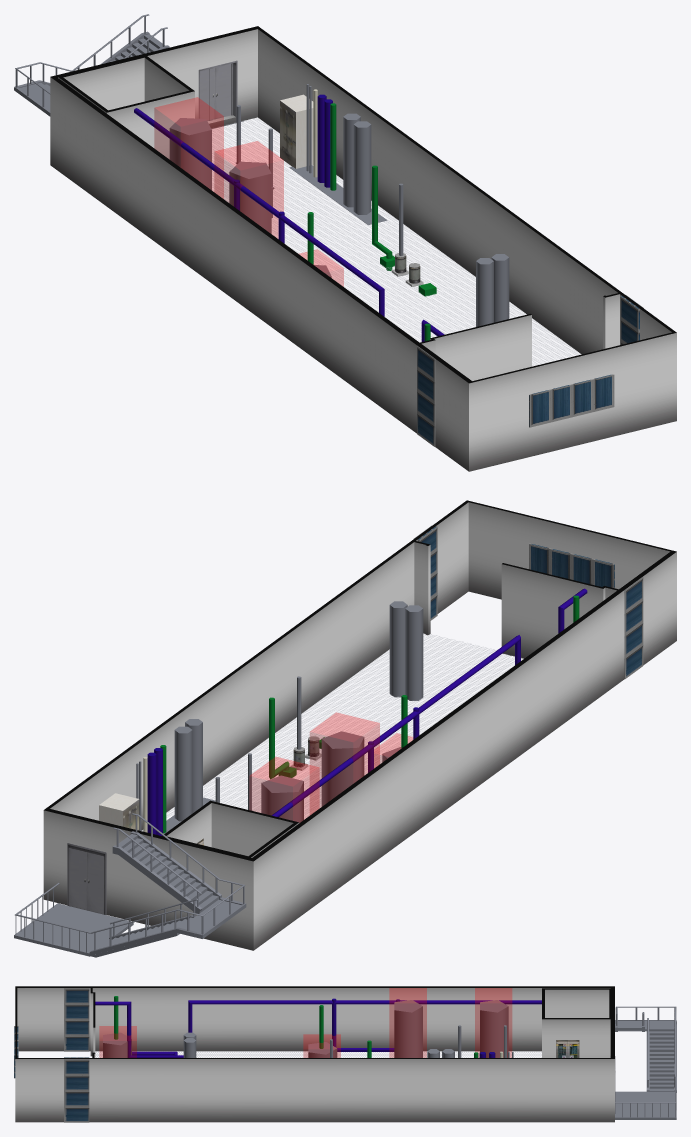
File: soulbrain_T6-3-4F-1.glb
The picture shows the model from 3 angles, top to bottom: view 1: azimuth 30°, elevation 25°; view 2: azimuth 150°, elevation 25°; view 3: azimuth 270°, elevation 25°; orthographic projection. The views are drawn at different scales.
Parts seen in each view (by area): view 1: T6-3-4F-1, T6-3-4F-2 A, Line1076, equipment-T6-3-4F-1-004, equipment-T6-3-4F-1-003, Line1079, Line1083, Line673, Cylinder222, Rectangle1241; view 2: T6-3-4F-1, Line673, Line1076, T6-3-4F-2 A, equipment-T6-3-4F-1-003, Line1079, equipment-T6-3-4F-1-004, Line1083, Cylinder222; view 3: T6-3-4F-1, Line673, T6-3-4F-2 A, Line1079, equipment-T6-3-4F-1-003, equipment-T6-3-4F-1-004, equipment-T6-3-4F-1-001, equipment-T6-3-4F-1-002, Line1076, Cylinder221.
Part boxes in pixels (left/top/right/bottom): T6-3-4F-1: left=50, top=26, right=676, bottom=471; T6-3-4F-2 A: left=169, top=94, right=331, bottom=277; Line1076: left=343, top=113, right=509, bottom=326; equipment-T6-3-4F-1-004: left=154, top=97, right=223, bottom=198; equipment-T6-3-4F-1-003: left=214, top=141, right=283, bottom=238; Line1079: left=134, top=108, right=444, bottom=341; Line1083: left=306, top=84, right=336, bottom=190; Line673: left=14, top=14, right=243, bottom=128; Cylinder222: left=391, top=183, right=423, bottom=286; Rectangle1241: left=289, top=165, right=387, bottom=225; T6-3-4F-1: left=43, top=500, right=676, bottom=950; Line673: left=14, top=813, right=246, bottom=957; Line1076: left=174, top=601, right=423, bottom=821; T6-3-4F-2 A: left=99, top=731, right=401, bottom=826; equipment-T6-3-4F-1-003: left=310, top=712, right=379, bottom=814; Line1079: left=269, top=588, right=587, bottom=817; equipment-T6-3-4F-1-004: left=249, top=757, right=319, bottom=822; Line1083: left=136, top=745, right=166, bottom=835; Cylinder222: left=290, top=676, right=321, bottom=770; T6-3-4F-1: left=14, top=986, right=615, bottom=1122; Line673: left=615, top=1006, right=676, bottom=1119; T6-3-4F-2 A: left=103, top=1000, right=508, bottom=1057; Line1079: left=95, top=996, right=541, bottom=1057; equipment-T6-3-4F-1-003: left=389, top=988, right=426, bottom=1057; equipment-T6-3-4F-1-004: left=475, top=988, right=511, bottom=1057; equipment-T6-3-4F-1-001: left=99, top=1026, right=136, bottom=1057; equipment-T6-3-4F-1-002: left=303, top=1034, right=340, bottom=1057; Line1076: left=183, top=1032, right=454, bottom=1057; Cylinder221: left=458, top=1025, right=506, bottom=1057.
Size of the model in its own units: 8.12 by 4.24 by 31.17.
16 materials, 14 textured.
